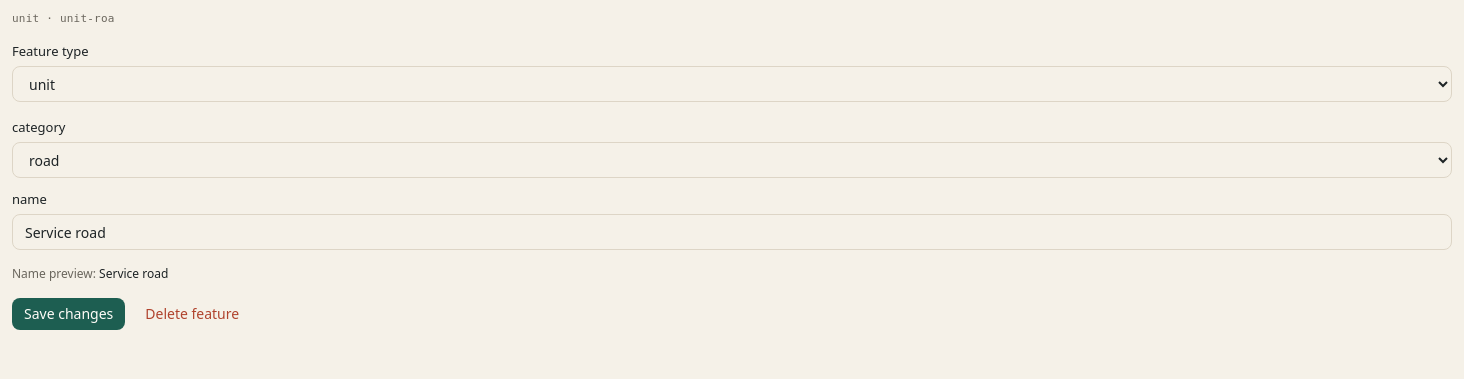
Scenario: switching type to geofence replaces an invalid category with the target default
This screenshot has width=1464, height=379.
Check: the dropdown labelled "category" shows "road", box [12,142,1452,178]
Select "geofence" in the dropdown labelled "Feature type". click: (732, 84)
box: [12,66,1452,102]
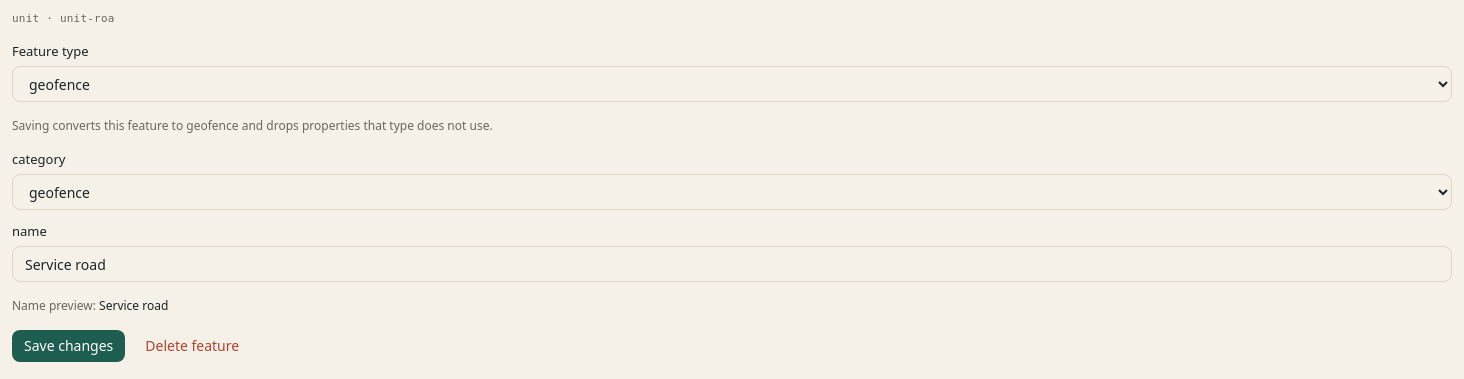
Check: the dropdown labelled "category" shows "geofence", box [12,174,1452,210]
